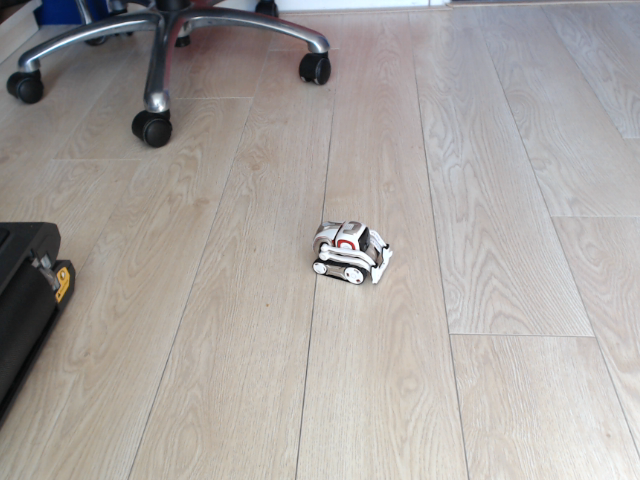cozmo: (307, 217, 395, 288)
